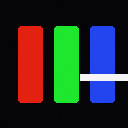3 line_h: (80, 74, 127, 80)
